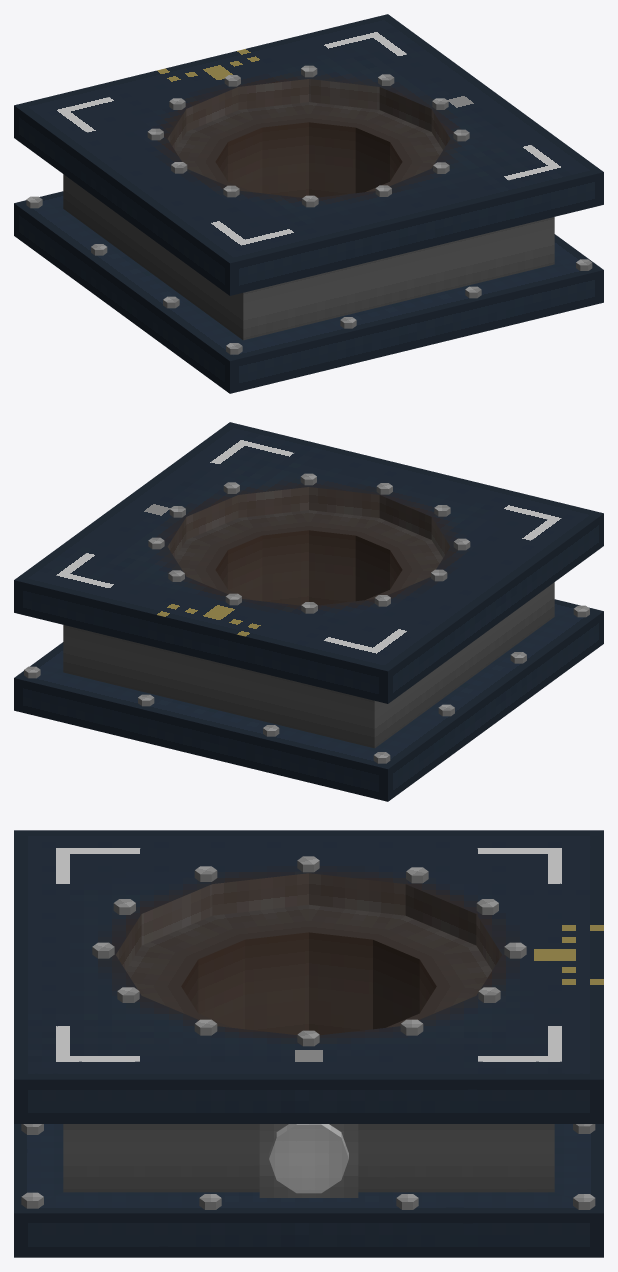
Rendered from rotary_table_base.obj.
3 renders of one model, top to bottom at view 1: azimuth 30°, elevation 25°; view 2: azimuth 150°, elevation 25°; view 3: azimuth 270°, elevation 25°, orthographic. The views are drawn at different scales.
Parts seen in each view (by area): view 1: rotary_table_base; view 2: rotary_table_base; view 3: rotary_table_base.
Part boxes in pixels (x1,y1,x2,y2): rotary_table_base: (14, 14, 603, 393); rotary_table_base: (14, 422, 603, 801); rotary_table_base: (14, 830, 603, 1257).
Bounding box in the file's own units: 3 × 1.04 × 3.
